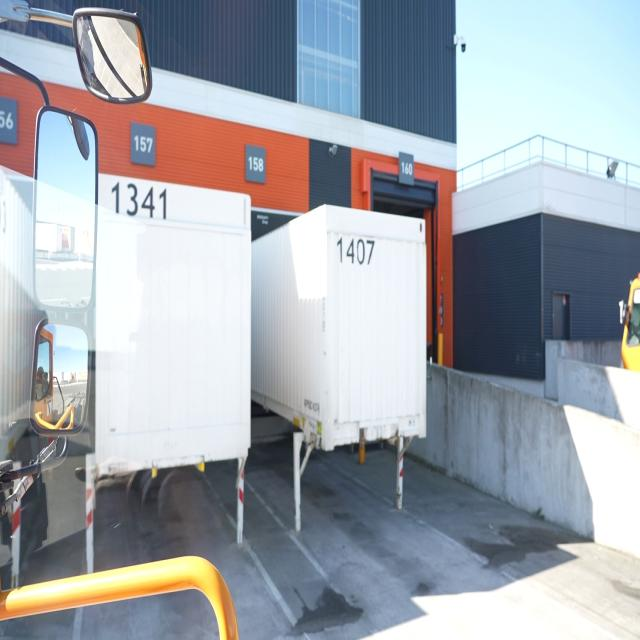Code: (105, 171, 170, 232), (334, 225, 379, 273)
